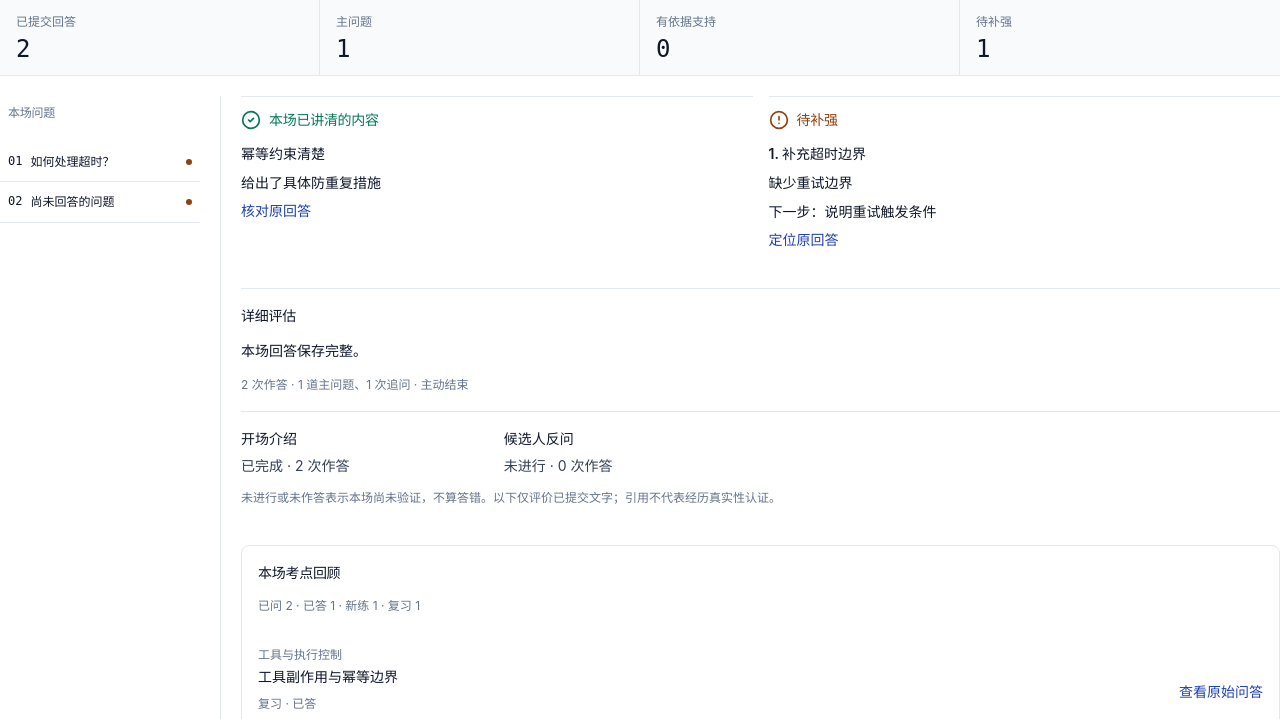
考点回顾区分新练复习和已答未答，并定位到对应原始问答
This screenshot has width=1280, height=719.
Expected: the element that starts with "本场考点回顾" is shown, [258,564,340,580]
Expected: the element that starts with "本场考点回顾" shows "已问 2", [258,598,420,612]
Click the button "查看原始问答" at {"x": 1221, "y": 692}, box [1179,676,1263,708]
(page scrolled)
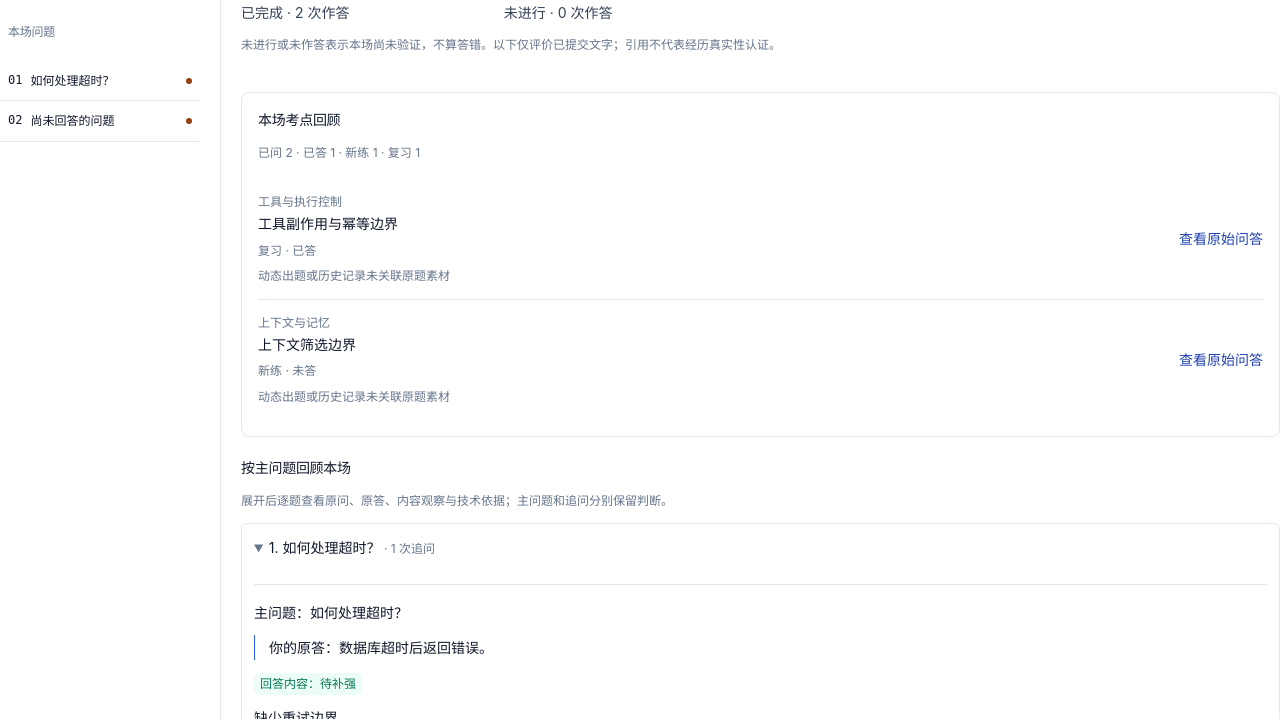
Click the button "查看原始问答" in the row of "上下文筛选边界" at {"x": 1221, "y": 360}, box [1179,344,1263,376]
(page scrolled)
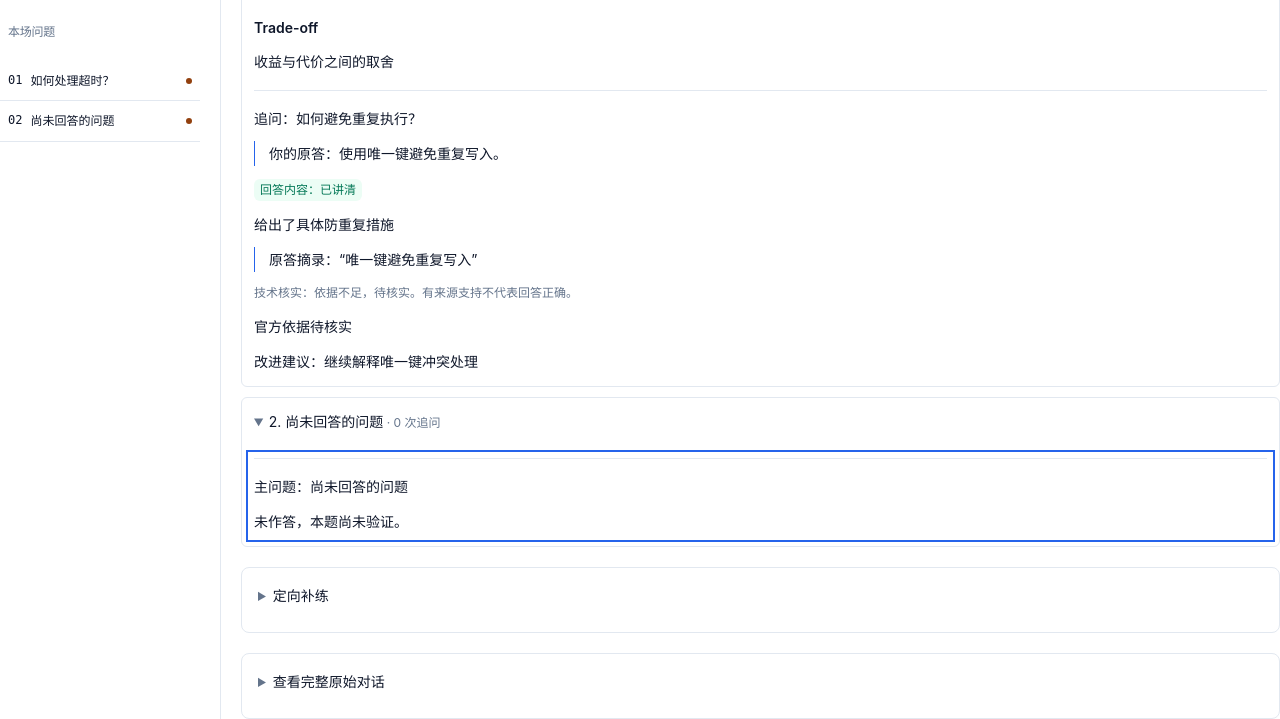
Result: the element showing "主问题：尚未回答的问题 未作答，本题尚未验证。" is shown at [254,458,1267,534]
